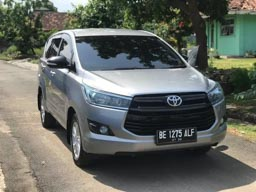plat: (157, 128, 195, 138)
